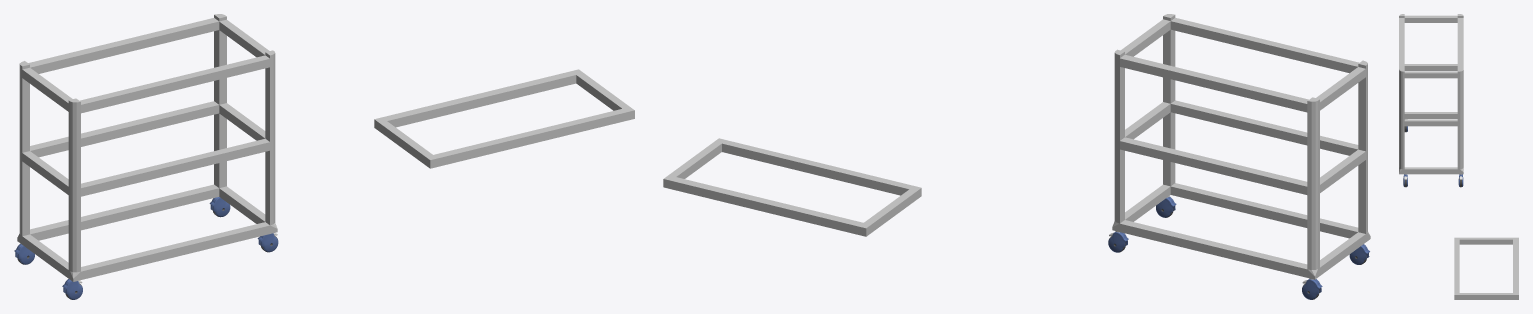
File: exerciseballrack.fbx
3 views of the same model, side by side, from view 1: azimuth 30°, elevation 25°; view 2: azimuth 150°, elevation 25°; view 3: azimuth 270°, elevation 25° (orthographic). The views are drawn at different scales.
Parts seen in each view (by area): view 1: Cube, Cube.001, Cube.003, Cube.002; view 2: Cube, Cube.001, Cube.003, Cube.002; view 3: Cube, Cube.001, Cube.003, Cube.002.
Boxes of the visible parts, bbox=[...] form: Cube: bbox=[17, 14, 277, 281]; Cube.001: bbox=[374, 69, 634, 168]; Cube.003: bbox=[22, 18, 269, 113]; Cube.002: bbox=[22, 101, 269, 196]; Cube: bbox=[1112, 14, 1370, 279]; Cube.001: bbox=[663, 138, 921, 236]; Cube.003: bbox=[1120, 18, 1365, 112]; Cube.002: bbox=[1120, 100, 1365, 194]; Cube: bbox=[1399, 14, 1463, 174]; Cube.001: bbox=[1454, 237, 1518, 299]; Cube.003: bbox=[1399, 15, 1463, 78]; Cube.002: bbox=[1404, 64, 1457, 126].
Bounding box in the file's own units: 7699 × 2414 × 2258.
